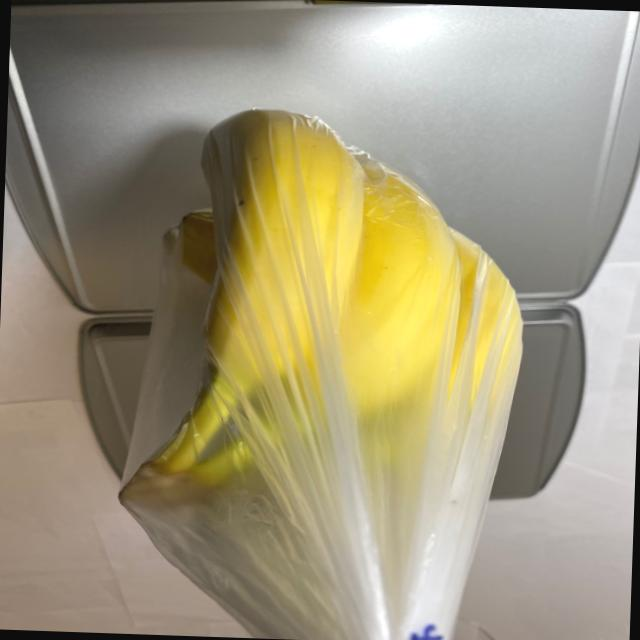banana: (111, 95, 531, 588)
